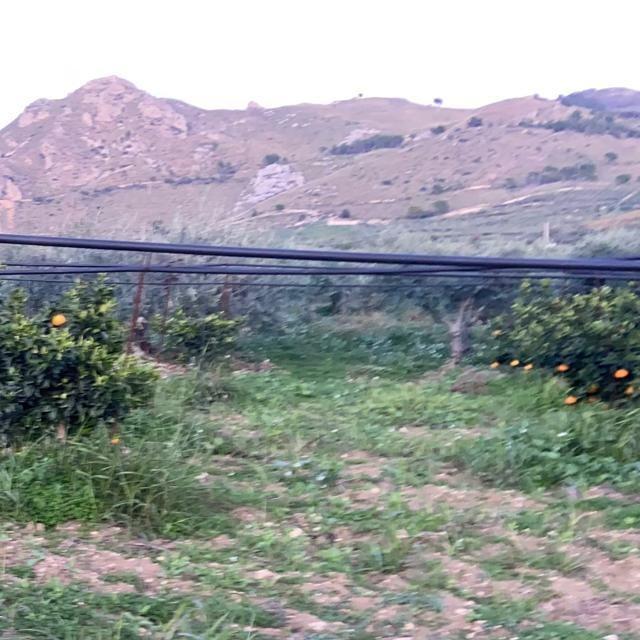orange: (614, 366, 630, 380), (586, 380, 600, 394), (49, 313, 65, 325), (109, 430, 121, 444), (52, 425, 66, 437), (562, 395, 578, 405), (503, 358, 519, 368), (487, 358, 499, 370), (623, 385, 635, 395), (584, 395, 598, 403), (558, 363, 568, 373), (524, 363, 534, 369)
